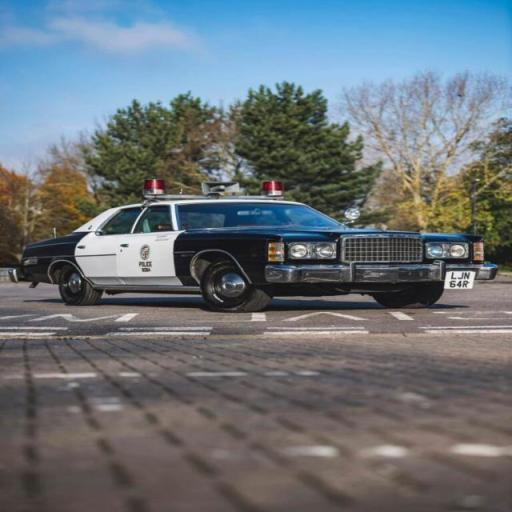Ambulance: (22, 176, 493, 314)
